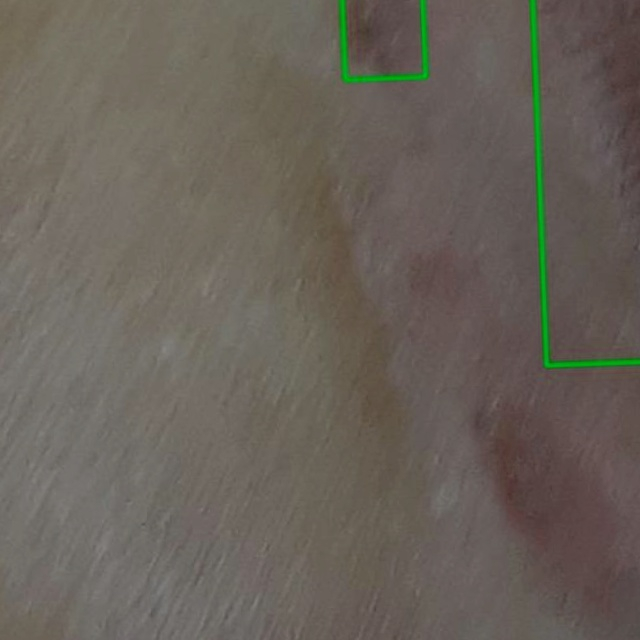Eczema: (532, 0, 639, 365), (342, 0, 425, 79)
